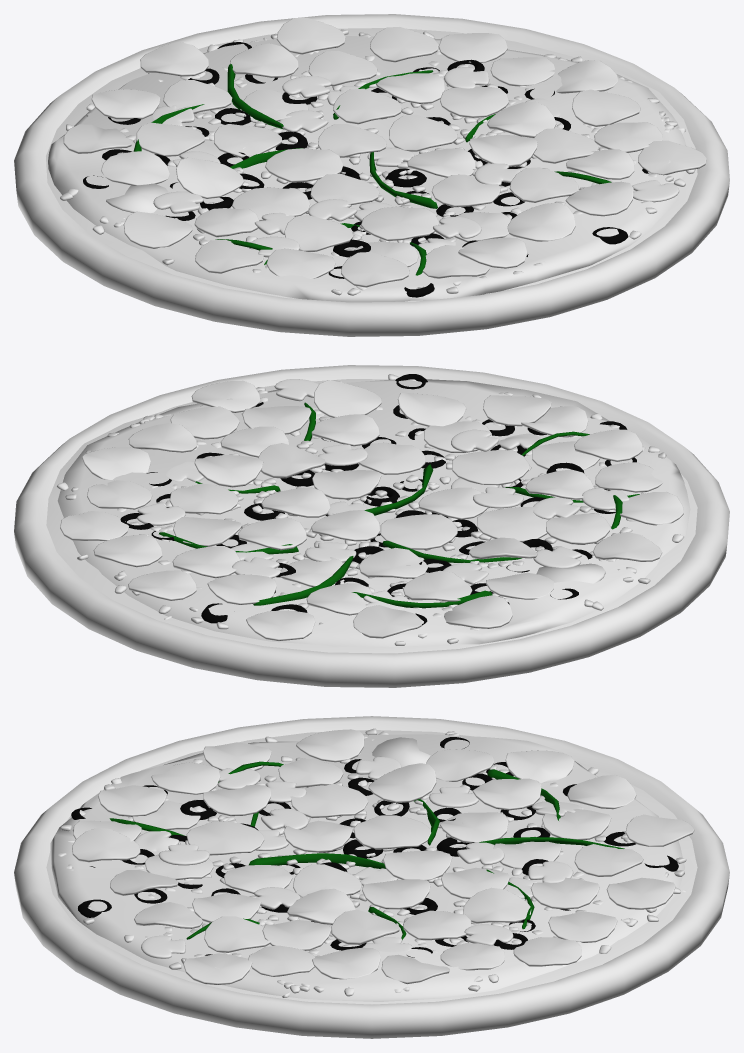
The model's file is 99avenue_pizza.fbx.
The picture shows the model from 3 angles, top to bottom: view 1: azimuth 30°, elevation 25°; view 2: azimuth 150°, elevation 25°; view 3: azimuth 270°, elevation 25°; orthographic projection.
Visible parts, largest first — view 1: pepperoni.002, pizzadow_burn_low.002, pizzacheese.002, mushroom,.001, corn.002, Olive.001, pizzasource.002, pepper.001; view 2: pepperoni.002, pizzadow_burn_low.002, pizzacheese.002, mushroom,.001, corn.002, pizzasource.002, Olive.001, pepper.001; view 3: pepperoni.002, pizzadow_burn_low.002, pizzacheese.002, mushroom,.001, corn.002, pizzasource.002, Olive.001, pepper.001.
Boxes of the visible parts, x1,y1,x2,y2 form: pepperoni.002: (63, 17, 706, 287); pizzadow_burn_low.002: (14, 14, 729, 336); pizzacheese.002: (48, 36, 686, 302); mushroom,.001: (152, 67, 679, 257); corn.002: (60, 29, 695, 295); Olive.001: (83, 42, 648, 297); pizzasource.002: (46, 28, 697, 301); pepper.001: (133, 64, 611, 275); pepperoni.002: (60, 380, 683, 640); pizzadow_burn_low.002: (14, 365, 729, 687); pizzacheese.002: (57, 379, 690, 646); mushroom,.001: (136, 379, 629, 609); corn.002: (57, 374, 683, 645); pizzasource.002: (46, 379, 697, 653); Olive.001: (120, 374, 636, 625); pepper.001: (159, 402, 639, 608); pepperoni.002: (72, 729, 694, 984); pizzadow_burn_low.002: (14, 716, 729, 1038); pizzacheese.002: (50, 734, 684, 1001); mushroom,.001: (134, 756, 581, 958); corn.002: (58, 728, 686, 997); pizzasource.002: (46, 730, 697, 1004); Olive.001: (71, 737, 678, 957); pepper.001: (109, 761, 624, 939).
Bounding box in the file's own units: 23.79 × 2.12 × 23.79.
